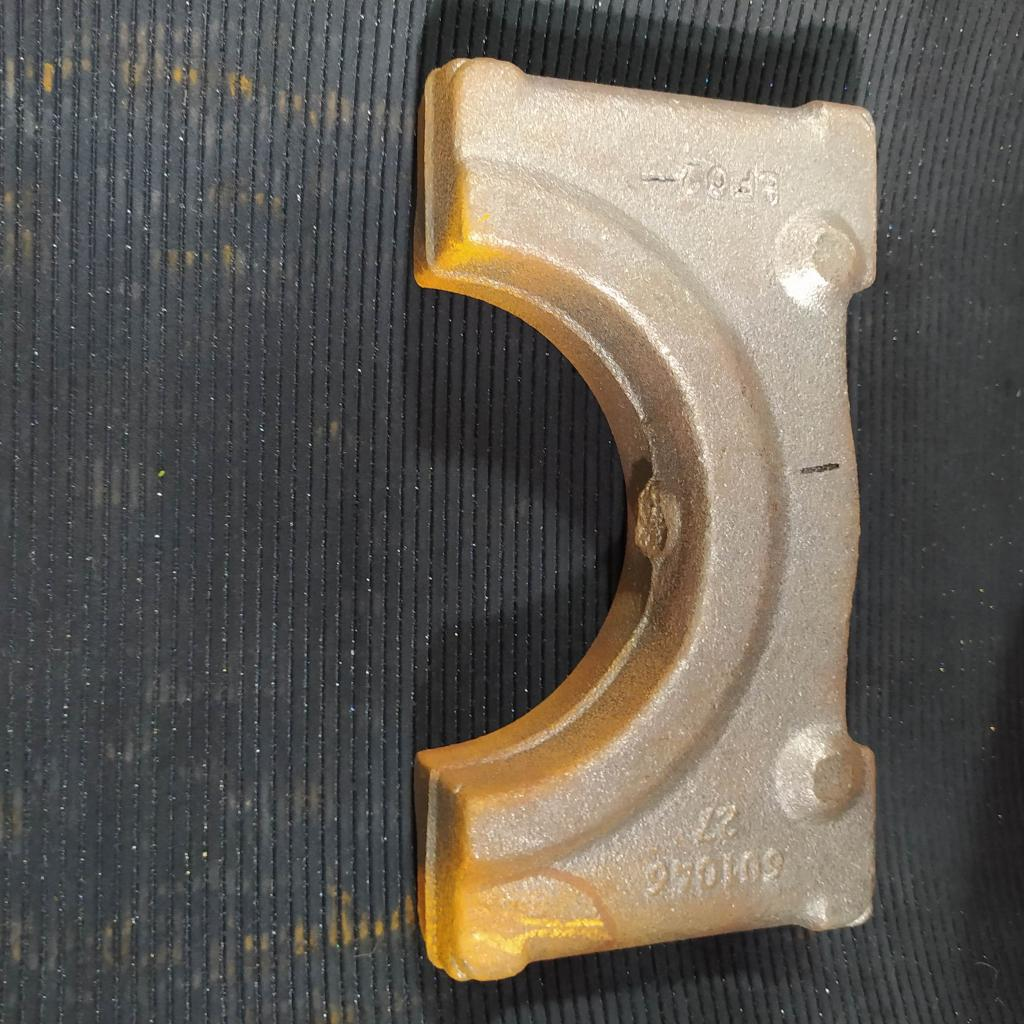rechupe: (446, 953, 477, 985), (849, 904, 875, 931), (860, 110, 881, 134), (449, 59, 473, 76)
